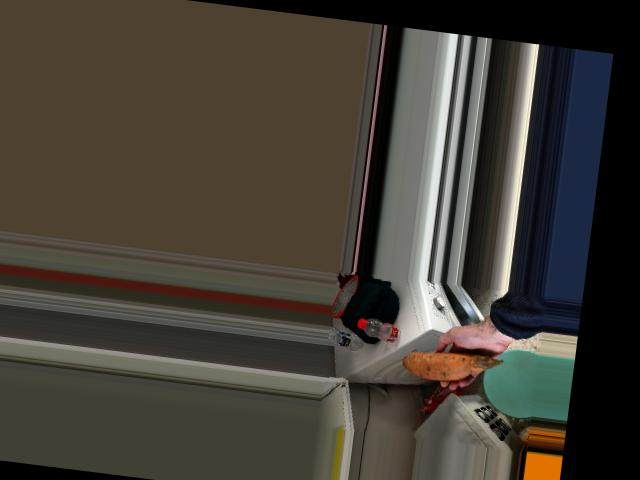sweet_potato: (402, 345, 489, 388)
